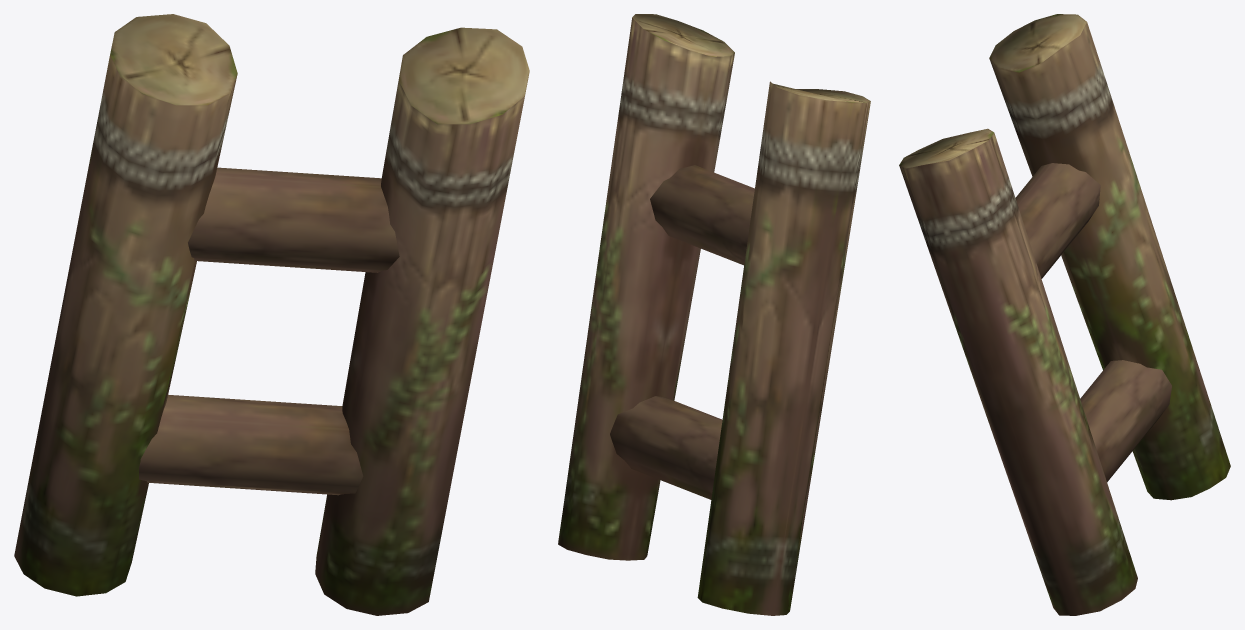
The model's file is Timber_K.fbx.
3 renders of one model, left to right at view 1: azimuth 30°, elevation 25°; view 2: azimuth 150°, elevation 25°; view 3: azimuth 270°, elevation 25°, orthographic. The views are drawn at different scales.
Parts seen in each view (by area): view 1: Timber_K__7_; view 2: Timber_K__7_; view 3: Timber_K__7_.
Boxes of the visible parts, box(x1,y1,x2,y2) form: Timber_K__7_: box(14, 14, 529, 615); Timber_K__7_: box(558, 14, 870, 615); Timber_K__7_: box(899, 14, 1230, 615).
Size of the model in its own units: 0.2196 by 0.3887 by 0.2374.
Materials: 1 (1 with a texture image).
